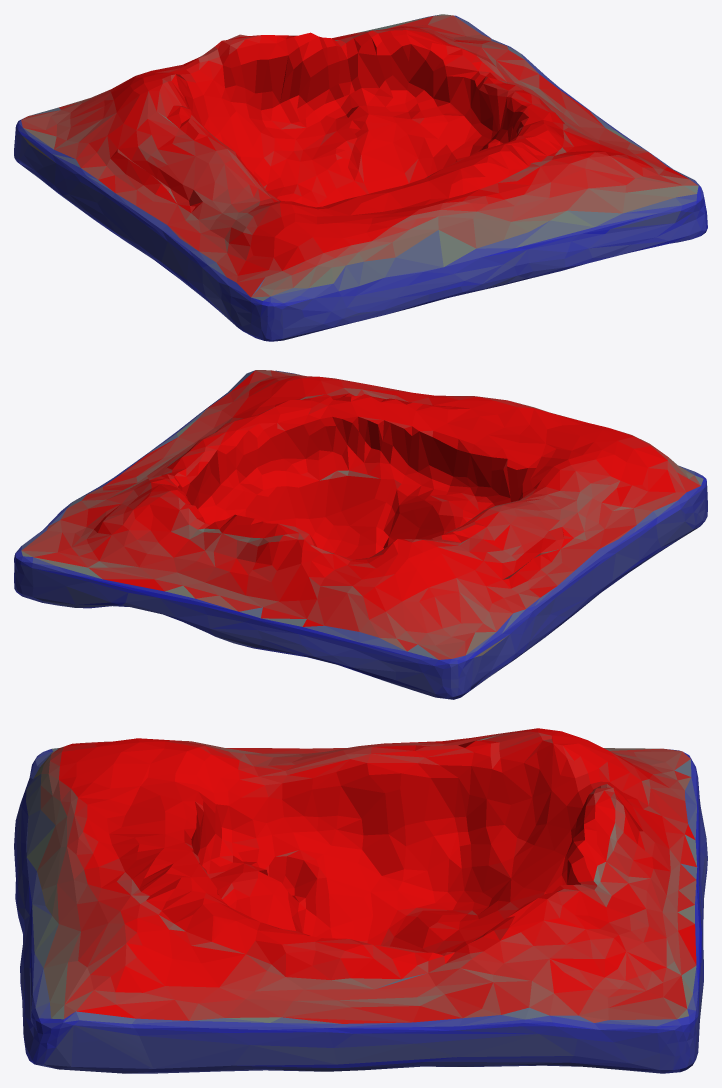
Rendered from level3.fbx.
3 views of the same model, one above another, from view 1: azimuth 30°, elevation 25°; view 2: azimuth 150°, elevation 25°; view 3: azimuth 270°, elevation 25° (orthographic). The views are drawn at different scales.
Parts seen in each view (by area): view 1: Mesh; view 2: Mesh; view 3: Mesh.
Boxes of the visible parts, <box> form: Mesh: <box>14,14,707,341</box>; Mesh: <box>14,370,707,699</box>; Mesh: <box>14,728,707,1073</box>.
Size of the model in its own units: 3005 by 889 by 3080.
